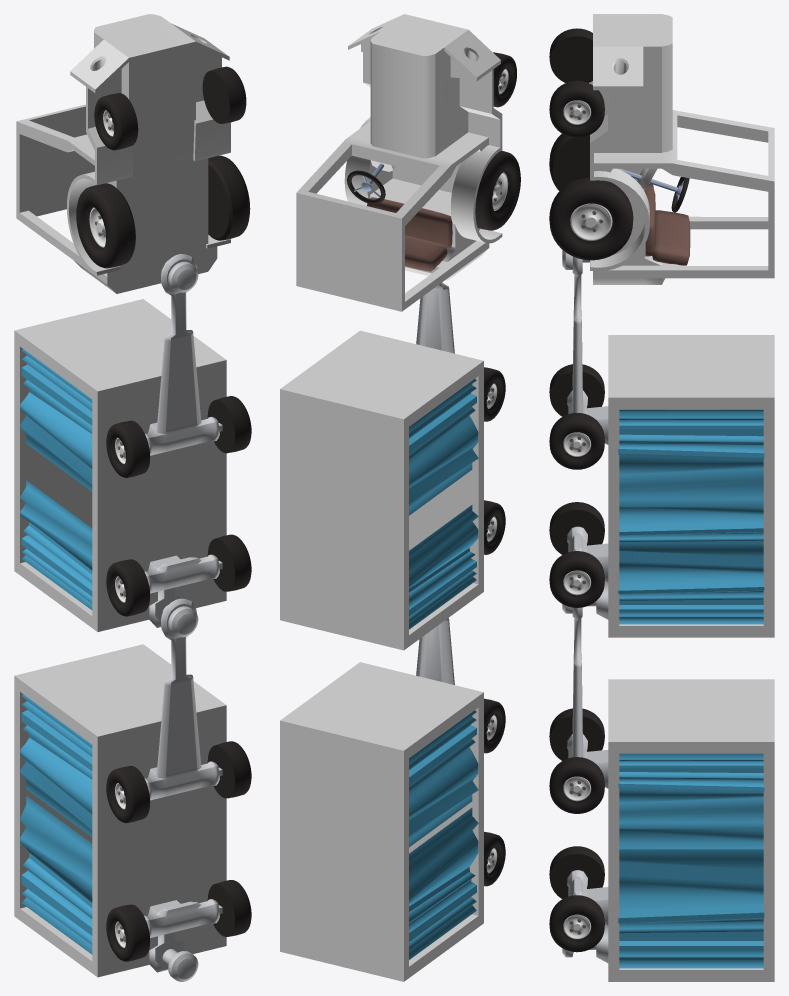
File: airport_luggage_cart.fbx
3 views of the same model, side by side, from view 1: azimuth 30°, elevation 25°; view 2: azimuth 150°, elevation 25°; view 3: azimuth 270°, elevation 25° (orthographic). The views are drawn at different scales.
Visible parts, largest first — view 1: imagetostl_mesh5, imagetostl_mesh0, imagetostl_mesh3, imagetostl_mesh1, imagetostl_mesh2; view 2: imagetostl_mesh5, imagetostl_mesh0, imagetostl_mesh3, imagetostl_mesh1, imagetostl_mesh6, imagetostl_mesh2; view 3: imagetostl_mesh5, imagetostl_mesh0, imagetostl_mesh3, imagetostl_mesh1, imagetostl_mesh2, imagetostl_mesh6, imagetostl_mesh4.
Part boxes in pixels (bbox=[...]): imagetostl_mesh5: bbox=[14, 14, 230, 977]; imagetostl_mesh0: bbox=[19, 349, 92, 954]; imagetostl_mesh3: bbox=[76, 66, 251, 961]; imagetostl_mesh1: bbox=[144, 254, 222, 981]; imagetostl_mesh2: bbox=[89, 110, 125, 948]; imagetostl_mesh5: bbox=[280, 14, 502, 981]; imagetostl_mesh0: bbox=[408, 379, 478, 959]; imagetostl_mesh3: bbox=[347, 52, 520, 886]; imagetostl_mesh1: bbox=[416, 282, 454, 684]; imagetostl_mesh6: bbox=[367, 197, 452, 271]; imagetostl_mesh2: bbox=[486, 68, 508, 873]; imagetostl_mesh5: bbox=[590, 14, 774, 981]; imagetostl_mesh0: bbox=[618, 409, 764, 968]; imagetostl_mesh3: bbox=[549, 28, 689, 952]; imagetostl_mesh1: bbox=[562, 250, 608, 962]; imagetostl_mesh2: bbox=[563, 100, 612, 939]; imagetostl_mesh6: bbox=[644, 183, 690, 265]; imagetostl_mesh4: bbox=[569, 104, 603, 934].
Size of the model in its own units: 7662 by 47913 by 10556.
